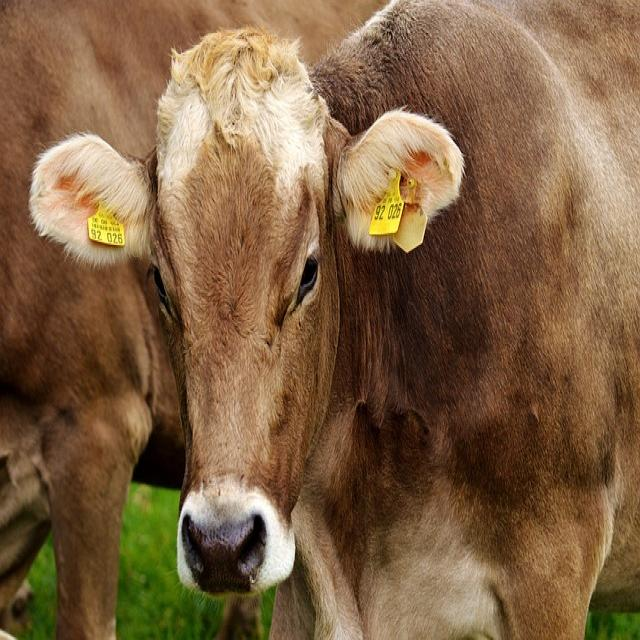Herbivorous: (34, 0, 640, 638)
